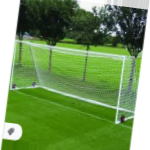goals: (9, 39, 137, 124)
